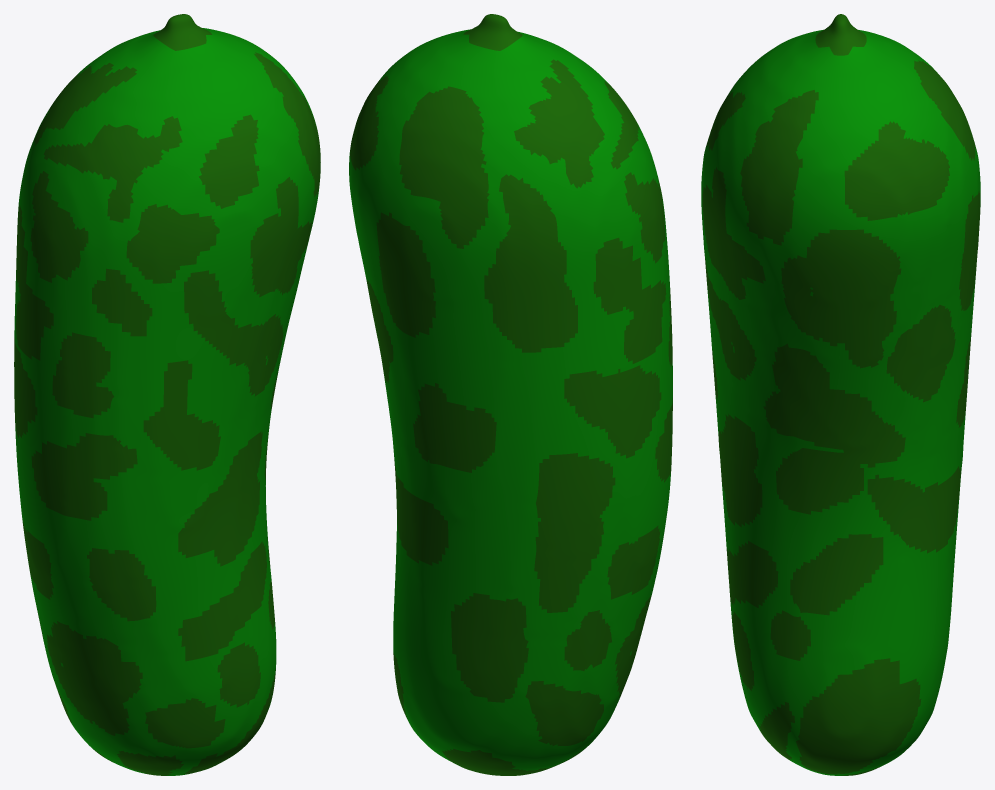
File: jgyrchik2.fbx
The picture shows the model from 3 angles, left to right: view 1: azimuth 30°, elevation 25°; view 2: azimuth 150°, elevation 25°; view 3: azimuth 270°, elevation 25°; orthographic projection.
Visible parts, largest first — view 1: Sphere; view 2: Sphere; view 3: Sphere.
Boxes of the visible parts, x1,y1,x2,y2 form: Sphere: (14,14,320,775); Sphere: (349,14,672,775); Sphere: (701,14,980,775).
Size of the model in its own units: 197 by 499 by 169.
